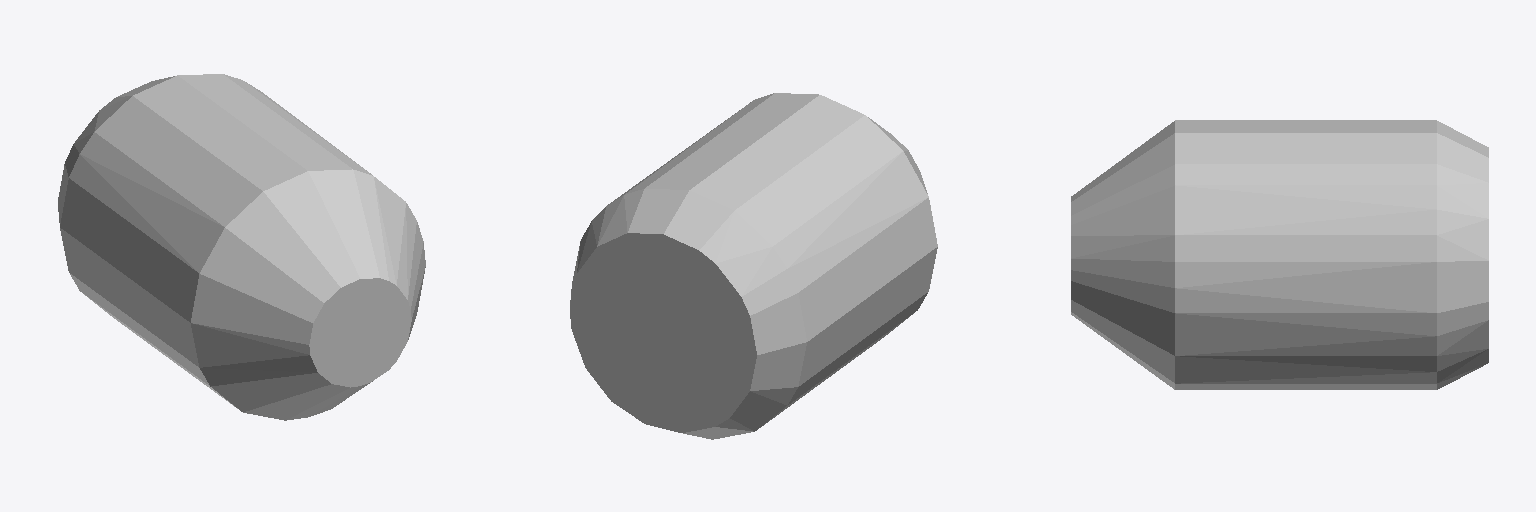
Rendered from anchoring_buoy.obj.
3 views of the same model, side by side, from view 1: azimuth 30°, elevation 25°; view 2: azimuth 150°, elevation 25°; view 3: azimuth 270°, elevation 25° (orthographic).
Bounding box in the file's own units: 0.65 × 0.65 × 1.